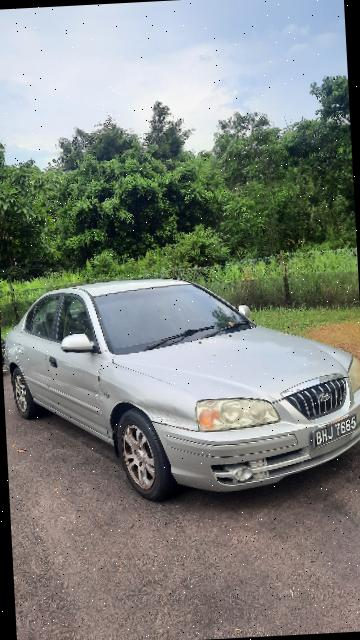License_Plate: (302, 408, 360, 454)
car: (3, 267, 360, 511)
